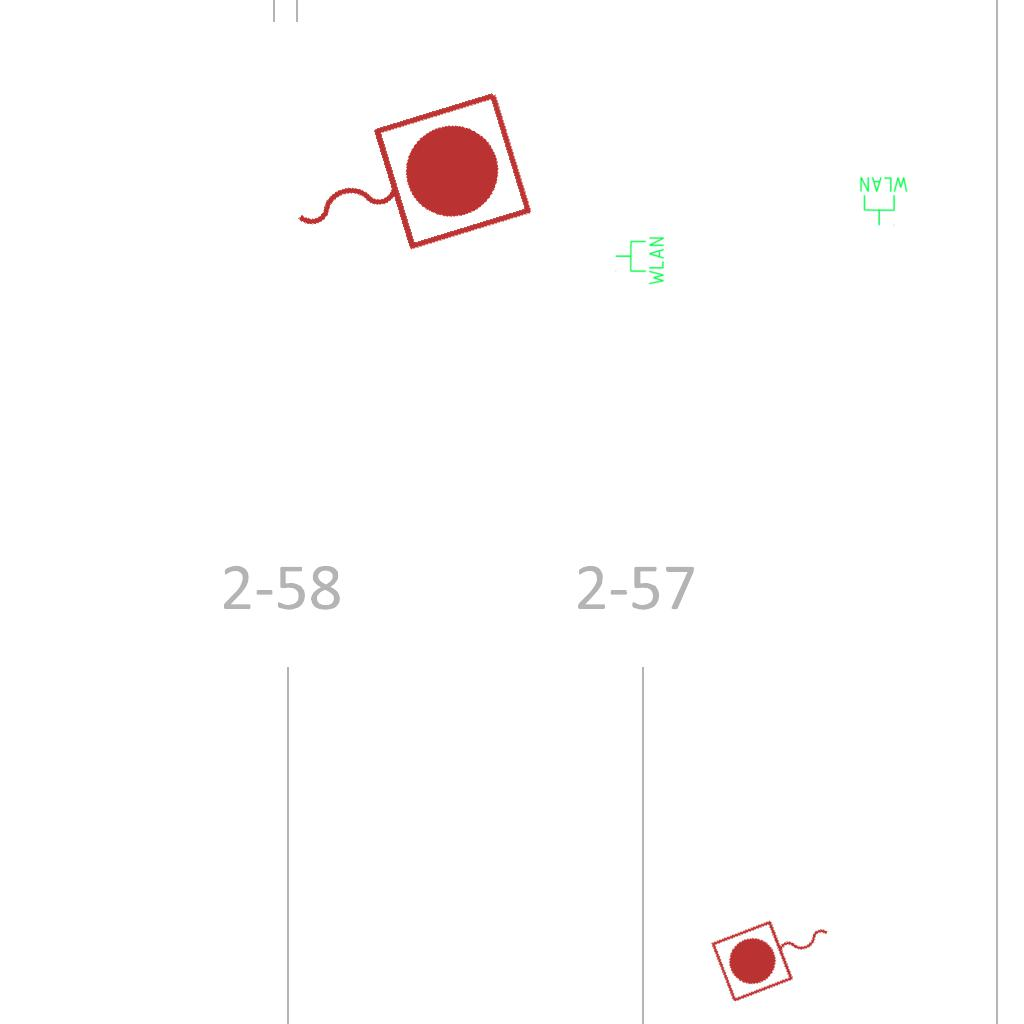WLAN: (614, 235, 666, 287), (858, 175, 910, 227)
Zugtaster: (266, 79, 542, 289), (706, 897, 846, 1009)
